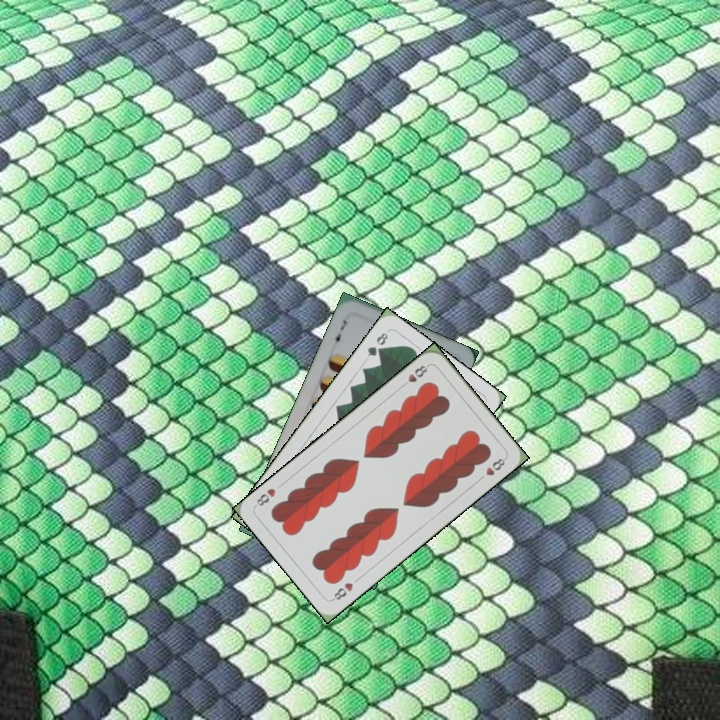E7: (329, 316, 350, 348)
G8: (363, 328, 391, 359)
H8: (397, 360, 431, 390), (328, 578, 356, 603)
